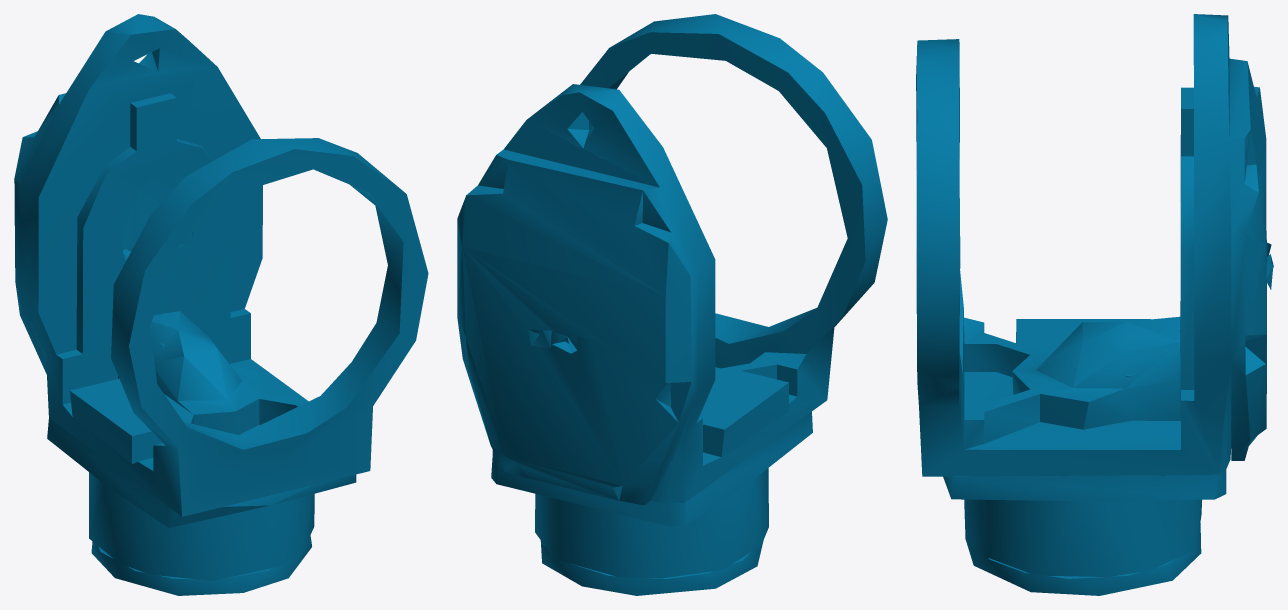
3 views of the same model, side by side, from view 1: azimuth 30°, elevation 25°; view 2: azimuth 150°, elevation 25°; view 3: azimuth 270°, elevation 25° (orthographic). The views are drawn at different scales.
Parts seen in each view (by area): view 1: es165rd-a00_lk5; view 2: es165rd-a00_lk5; view 3: es165rd-a00_lk5.
Boxes of the visible parts, left/top/right/bottom form: es165rd-a00_lk5: left=14, top=14, right=428, bottom=595; es165rd-a00_lk5: left=457, top=14, right=887, bottom=595; es165rd-a00_lk5: left=916, top=14, right=1273, bottom=595.
Bounding box in the file's own units: 0.223 × 0.2131 × 0.3459.
